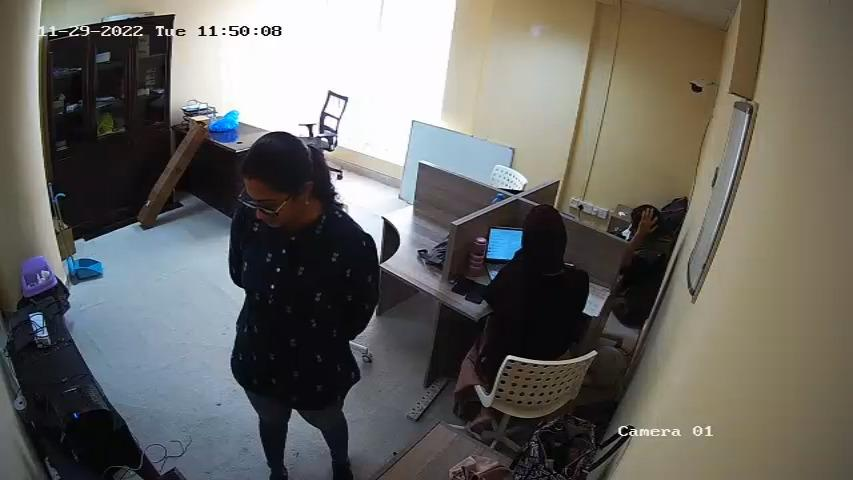no_apron: (246, 228, 336, 395)
